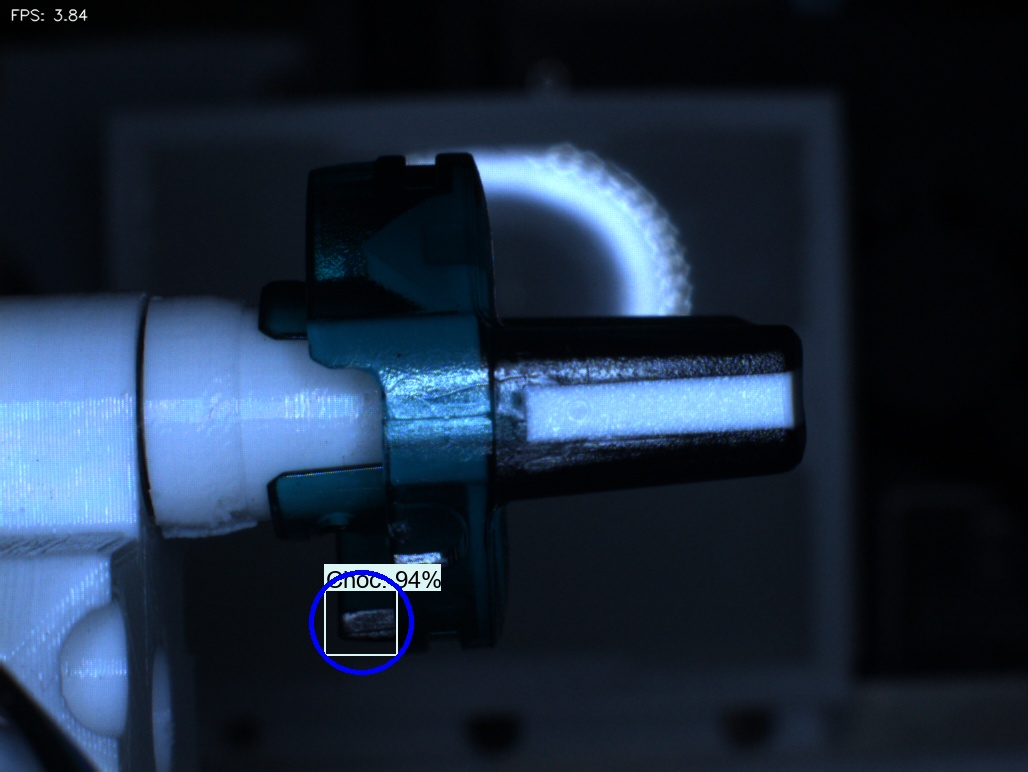DentOk: (336, 205, 415, 300)
